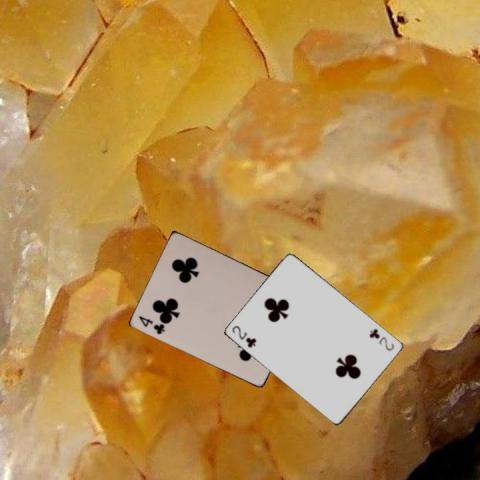2c: (367, 325, 396, 352), (229, 323, 258, 349)
4c: (135, 313, 166, 336)
